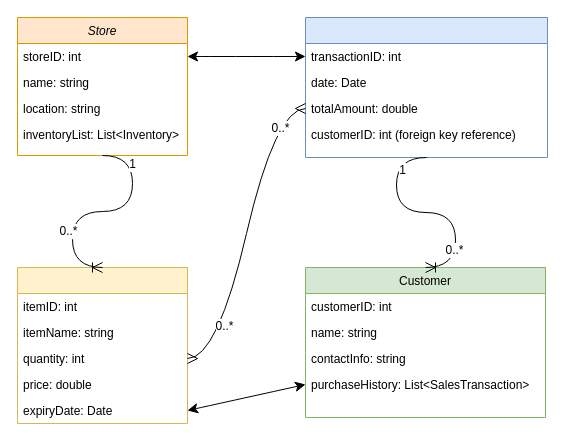
Image size: 565x444. Some labels were removed from this diagram. Here are the shapes that lost their labels. From the top down, the box of each, then its label:
(304, 16, 548, 158): SalesTransaction
(16, 266, 188, 424): Inventory
